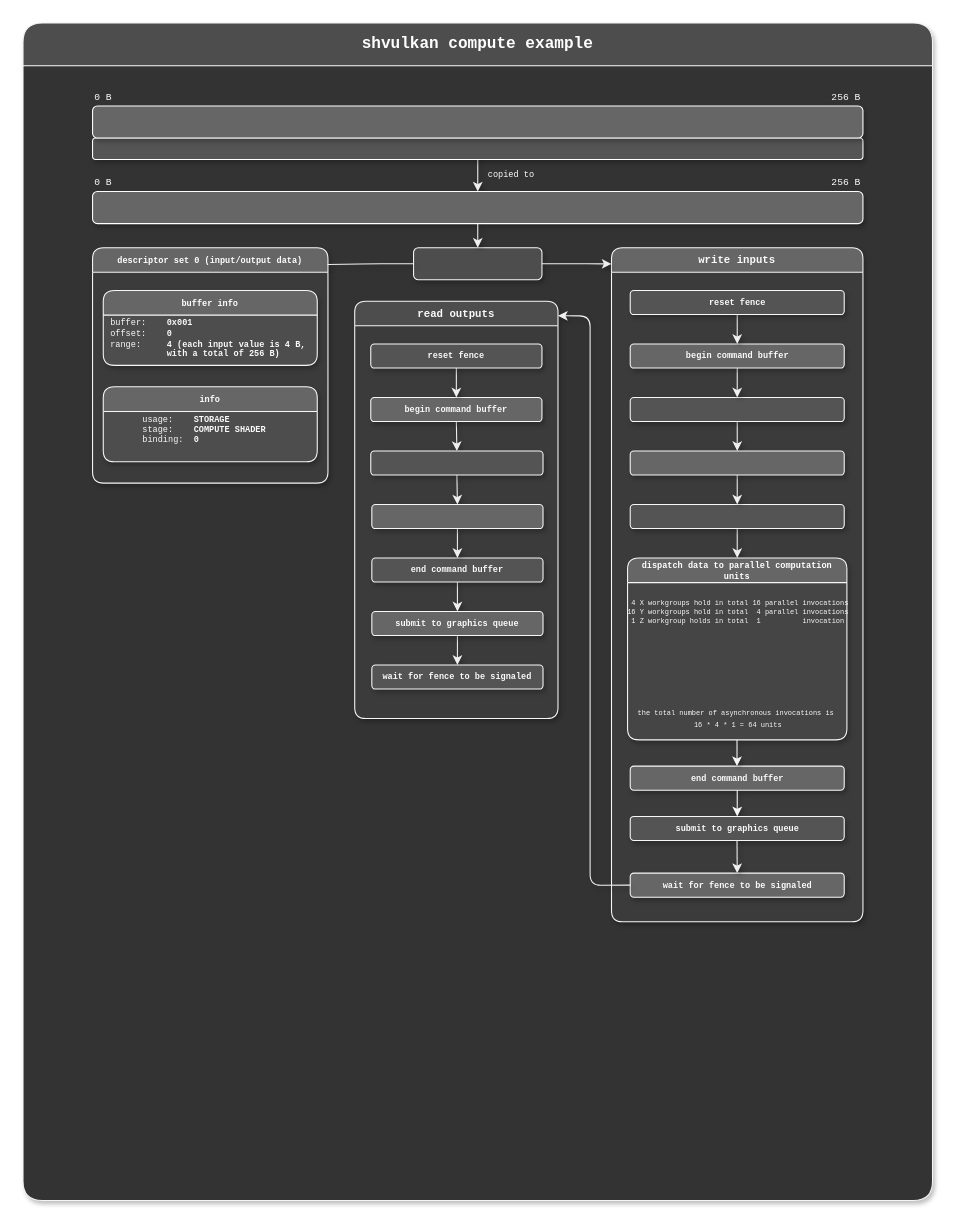
Image size: 958x1227. Some labels were removed from this diagram. The shapes that lost their labels are listed below. From the top down, each one's centre as x and y in pixels, then its label:
At (478,123): "host visible staging buffer (0x000)".
At (478,150): "compute shader inputs".
At (478,208): "device local descriptor buffer (0x001)".
At (478,264): "build pipeline".
At (738,410): "bind pipeline".
At (457,464): "copy buffer 0x001 to buffer 0x000".
At (738,464): "update descriptor set".
At (457,517): "log outputs".
At (738,517): "bind descriptor set 0".
